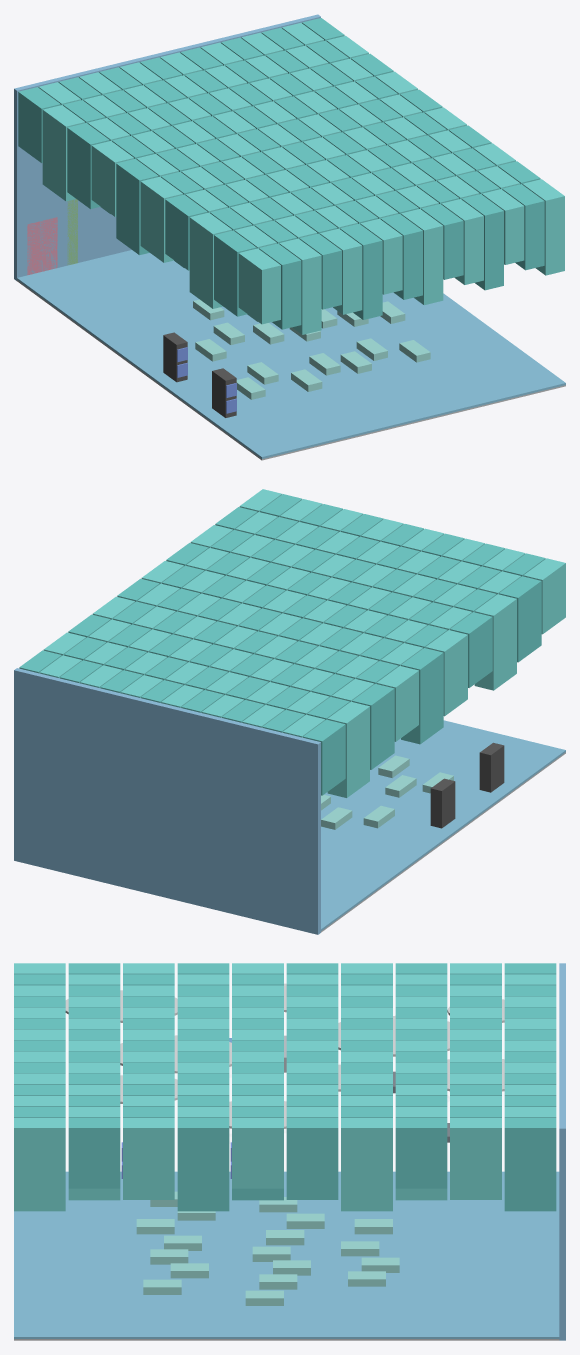
File: wave_yard.glb
The picture shows the model from 3 angles, top to bottom: view 1: azimuth 30°, elevation 25°; view 2: azimuth 150°, elevation 25°; view 3: azimuth 270°, elevation 25°; orthographic projection. The views are drawn at different scales.
Parts seen in each view (by area): view 1: Geom3D (×31); view 2: Geom3D (×14); view 3: Geom3D (×169).
Boxes of the visible parts, left/top/right/bottom form: Geom3D (×31): left=14, top=14, right=565, bottom=460; Geom3D (×14): left=14, top=558, right=565, bottom=934; Geom3D (×169): left=14, top=963, right=565, bottom=1340.
Bounding box in the file's own units: 26.14 × 15.65 × 36.91.
